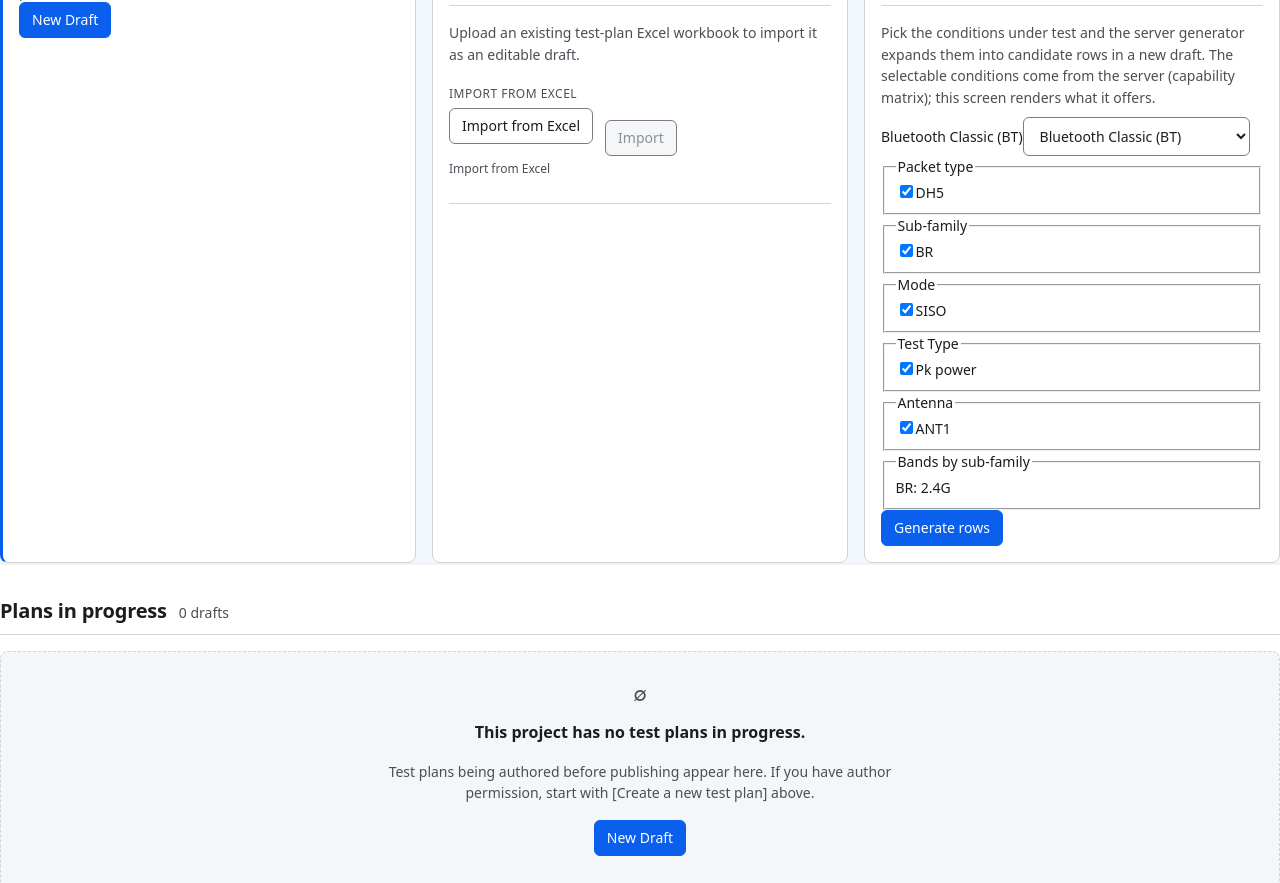
Test case: current generation API cutover › builds a generated-union request from server axes and previews before submit
(page scrolled)
Expected: the form with test id "test-plans-generator-form" is shown, [881, 117, 1263, 546]
Click the button with test id "test-plans-generator-submit" at (942, 528), box [881, 510, 1003, 546]
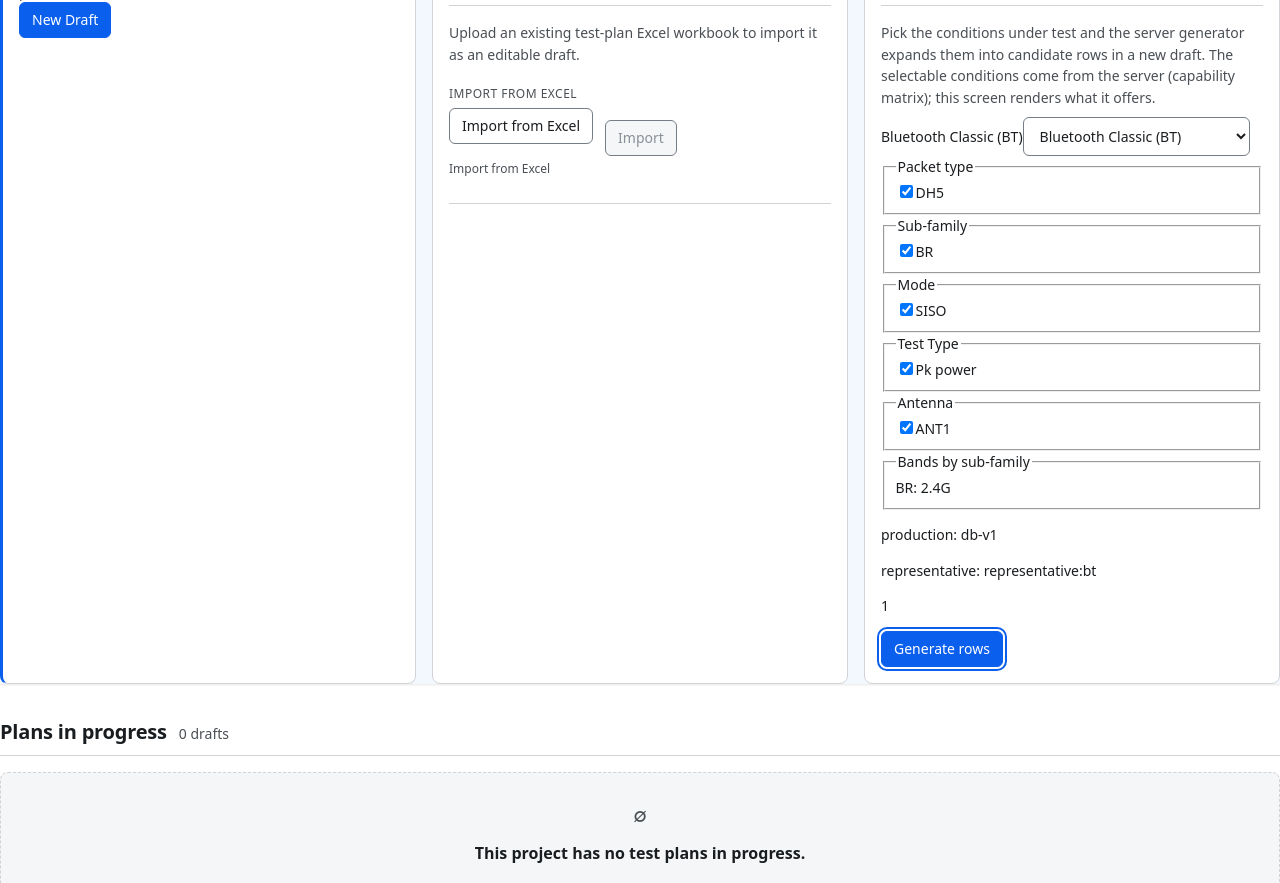
Result: the element with test id "test-plans-generator-preview" shows "production" at [881, 525, 953, 544]
Result: the element with test id "test-plans-generator-preview" shows "representative" at [881, 561, 976, 580]
